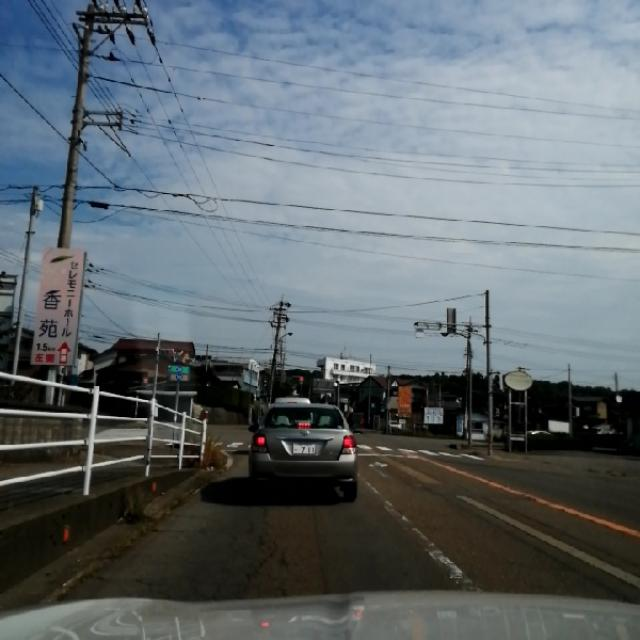pothole: (247, 527, 306, 600)
